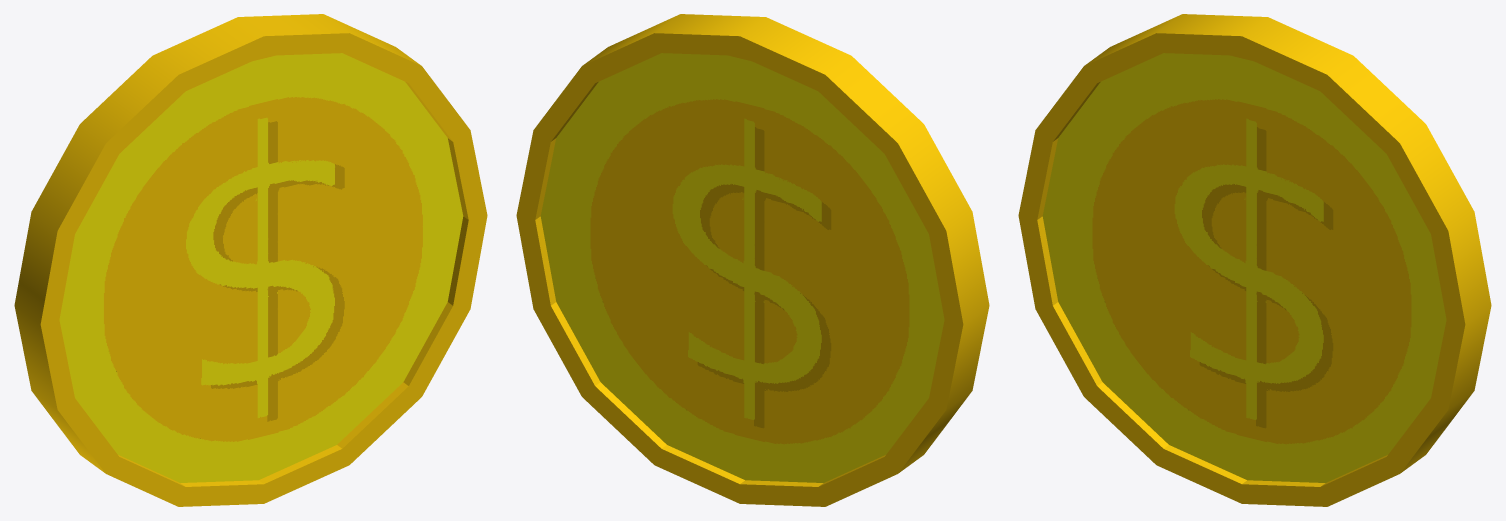
The model's file is Coin.fbx.
3 renders of one model, left to right at view 1: azimuth 30°, elevation 25°; view 2: azimuth 150°, elevation 25°; view 3: azimuth 330°, elevation 25°, orthographic.
Visible parts, largest first — view 1: pCylinder1; view 2: pCylinder1; view 3: pCylinder1.
Boxes of the visible parts, x1,y1,x2,y2 form: pCylinder1: [14, 14, 487, 506]; pCylinder1: [516, 14, 989, 506]; pCylinder1: [1018, 14, 1491, 506].
Size of the model in its own units: 2.23 by 2.23 by 0.2256.
